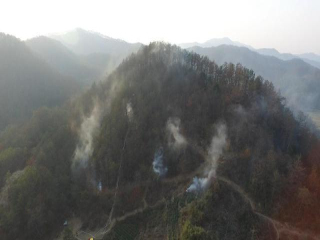smoke: (66, 50, 236, 195)
